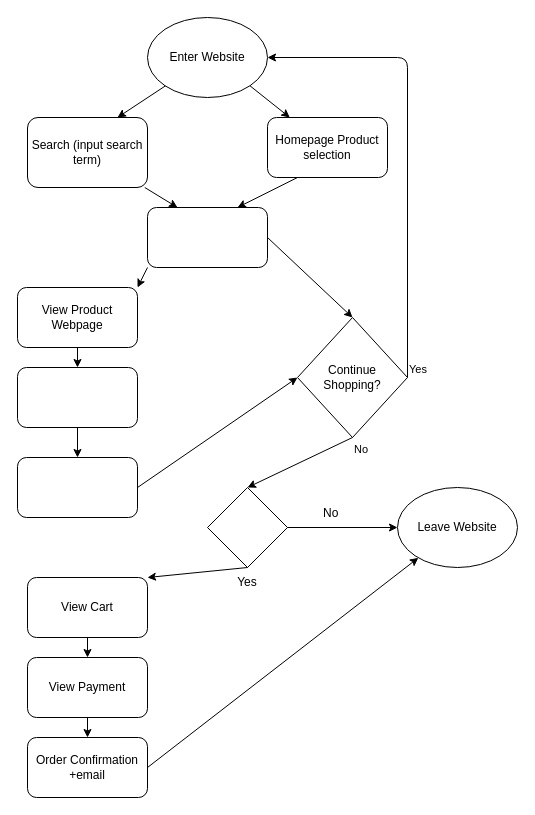
Some shapes in this 535 by 815 pixel diagram are drawn without their labels. The box of each missing label's shape, as (x1, y1, x2, y2) in pixels:
Add to Cart: (16, 366, 138, 428)
Browse Products: (146, 206, 268, 268)
Cart Confirmation: (16, 456, 138, 518)
Checkout?: (206, 486, 288, 568)
